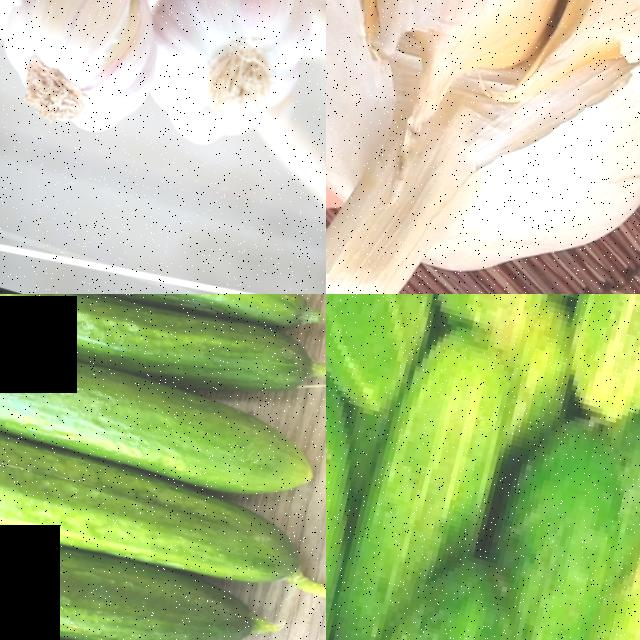cucumber: (0, 373, 326, 615), (0, 300, 323, 515), (0, 464, 268, 640), (360, 317, 527, 589), (0, 294, 326, 430), (484, 407, 640, 640), (0, 550, 276, 640), (0, 294, 326, 355), (359, 541, 538, 640), (326, 368, 386, 640), (547, 294, 640, 443), (395, 294, 595, 359)
garlic: (326, 0, 640, 294), (129, 0, 326, 167), (0, 0, 173, 150)
